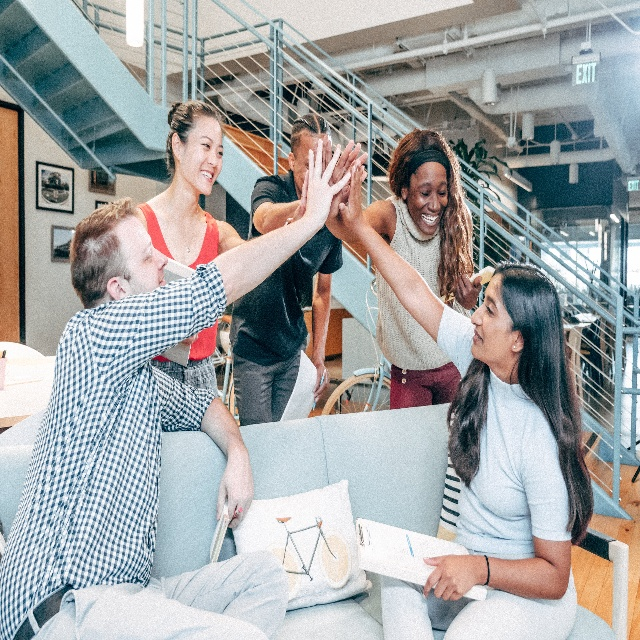Sin_guantes: (308, 140, 350, 238), (216, 449, 254, 528), (314, 135, 343, 220), (421, 557, 474, 602), (336, 140, 368, 209), (339, 160, 364, 232), (452, 273, 483, 309), (291, 169, 308, 224)
